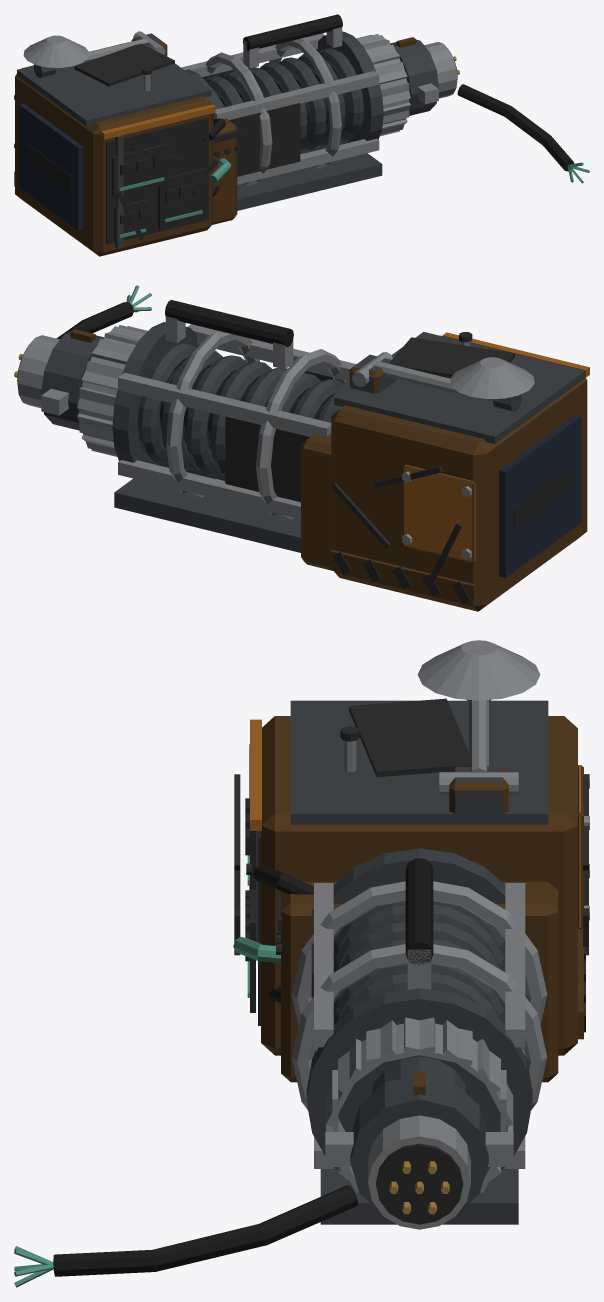
Rendered from dish_transmitter_broken.fbx.
The picture shows the model from 3 angles, top to bottom: view 1: azimuth 30°, elevation 25°; view 2: azimuth 150°, elevation 25°; view 3: azimuth 270°, elevation 25°; orthographic projection. The views are drawn at different scales.
Visible parts, largest first — view 1: DishTransmitterBroken; view 2: DishTransmitterBroken; view 3: DishTransmitterBroken.
Part boxes in pixels (x1,y1,x2,y2): DishTransmitterBroken: [14, 14, 589, 256]; DishTransmitterBroken: [14, 285, 589, 611]; DishTransmitterBroken: [14, 640, 589, 1287].
Bounding box in the file's own units: 141 × 53.7 × 87.2.
